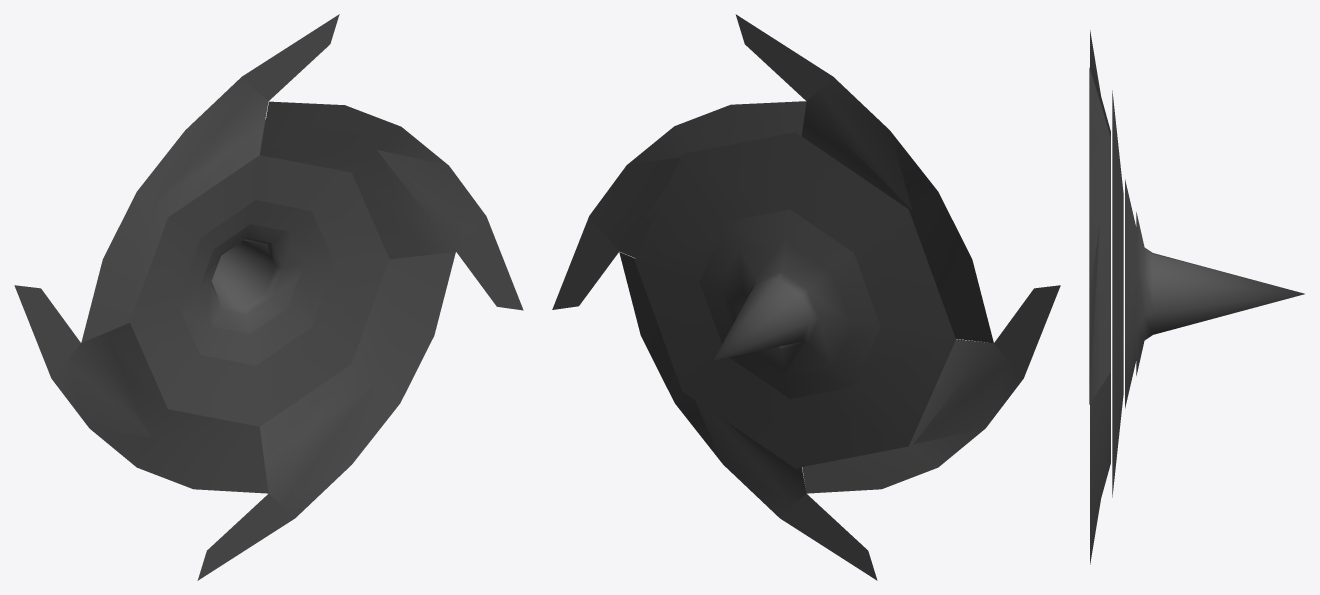
Rendered from vortex.glb.
The picture shows the model from 3 angles, left to right: view 1: azimuth 30°, elevation 25°; view 2: azimuth 150°, elevation 25°; view 3: azimuth 270°, elevation 25°; orthographic projection. The views are drawn at different scales.
Visible parts, largest first — view 1: group_65; view 2: group_65; view 3: group_65.
Boxes of the visible parts, bbox=[...] form: group_65: bbox=[14, 14, 523, 580]; group_65: bbox=[552, 14, 1060, 580]; group_65: bbox=[1089, 30, 1304, 564].
Bounding box in the file's own units: 22525 × 22505 × 7040.
1 material, 1 textured.
